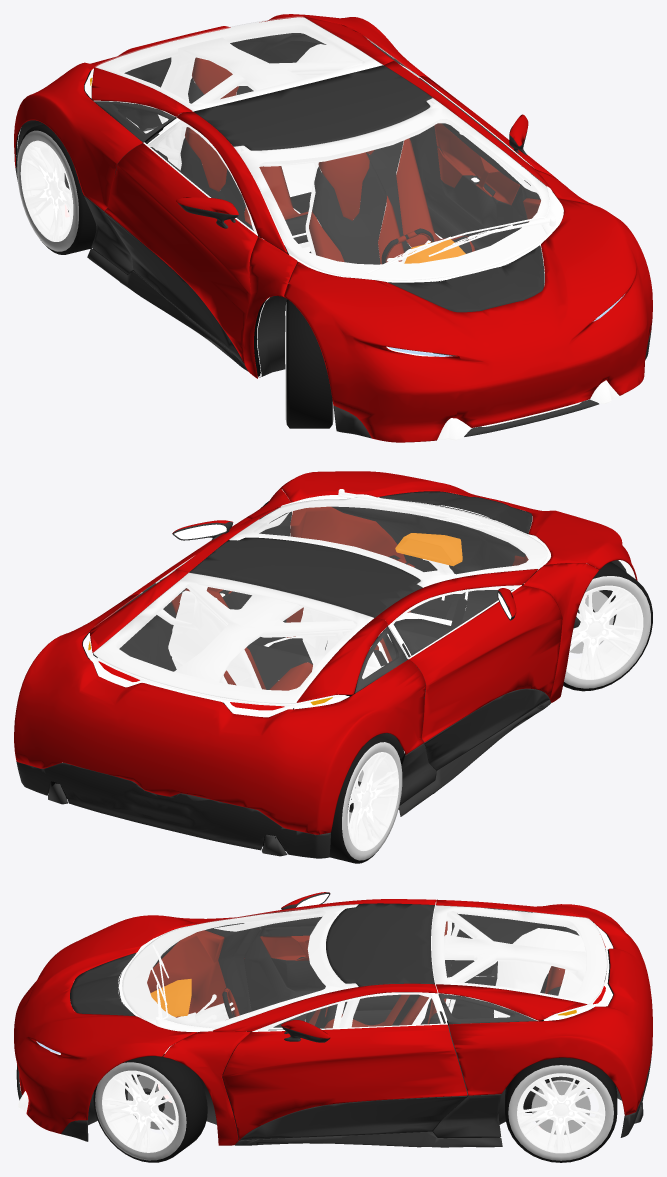
The model's file is car-concept.glb.
The picture shows the model from 3 angles, top to bottom: view 1: azimuth 30°, elevation 25°; view 2: azimuth 150°, elevation 25°; view 3: azimuth 270°, elevation 25°; orthographic projection. The views are drawn at different scales.
Parts seen in each view (by area): view 1: BodyHood, BodyWindshield, BodyRearwindow, BodyDoorRColor1, BodyRearPanelsColor1, BodyRoofPanel, BodyWindshieldGasket, InteriorSeatsColor1, InteriorSeatsColor2, BodyPillars, InteriorPillar, InteriorRearHatch (+21 smaller); view 2: BodyRearPanelsColor1, BodyRearwindow, BodyWindshield, BodyPanelsColor2, BodyDoorRColor1, BodyRoofPanel, BodyHood, InteriorRearHatch, BodyPillars, InteriorPillar, InteriorDashMid, BodyWindshieldGasket (+21 smaller); view 3: BodyRearPanelsColor1, BodyWindshield, BodyDoorLColor1, BodyHood, BodyRearwindow, BodyRoofPanel, BodyPillars, BodyWindshieldGasket, BodyDoorLColor2, BodyPanelsColor2, WheelFrontL, InteriorRearHatch (+25 smaller).
Part boxes in pixels (<box>): BodyHood: <box>284,198,652,442</box>; BodyWindshield: <box>234,98,549,280</box>; BodyRearwindow: <box>95,16,382,110</box>; BodyDoorRColor1: <box>104,143,257,363</box>; BodyRearPanelsColor1: <box>14,14,428,210</box>; BodyRoofPanel: <box>193,65,432,150</box>; BodyWindshieldGasket: <box>234,99,563,282</box>; InteriorSeatsColor1: <box>185,57,475,264</box>; InteriorSeatsColor2: <box>180,77,471,264</box>; BodyPillars: <box>176,61,599,378</box>; InteriorPillar: <box>158,37,434,168</box>; InteriorRearHatch: <box>94,17,383,117</box>; BodyRearPanelsColor1: <box>14,569,425,834</box>; BodyRearwindow: <box>93,573,373,703</box>; BodyWindshield: <box>229,497,547,587</box>; BodyPanelsColor2: <box>16,700,550,858</box>; BodyDoorRColor1: <box>409,585,562,742</box>; BodyRoofPanel: <box>189,537,422,617</box>; BodyHood: <box>279,471,637,580</box>; InteriorRearHatch: <box>93,573,386,707</box>; BodyPillars: <box>175,489,599,702</box>; InteriorPillar: <box>174,574,417,682</box>; InteriorDashMid: <box>331,503,528,622</box>; BodyWindshieldGasket: <box>230,497,550,587</box>; BodyRearPanelsColor1: <box>436,899,652,1115</box>; BodyWindshield: <box>122,904,357,1028</box>; BodyDoorLColor1: <box>222,1024,467,1140</box>; BodyHood: <box>14,915,196,1133</box>; BodyRearwindow: <box>432,905,606,1003</box>; BodyRoofPanel: <box>326,903,434,986</box>; BodyPillars: <box>163,899,437,1145</box>; BodyWindshieldGasket: <box>118,905,357,1032</box>; BodyDoorLColor2: <box>240,1096,466,1140</box>; BodyPanelsColor2: <box>16,1045,652,1147</box>; WheelFrontL: <box>93,1054,207,1162</box>; InteriorRearHatch: <box>432,905,606,1020</box>.
Bounding box in the file's own units: 2.54 × 1.15 × 4.36.
